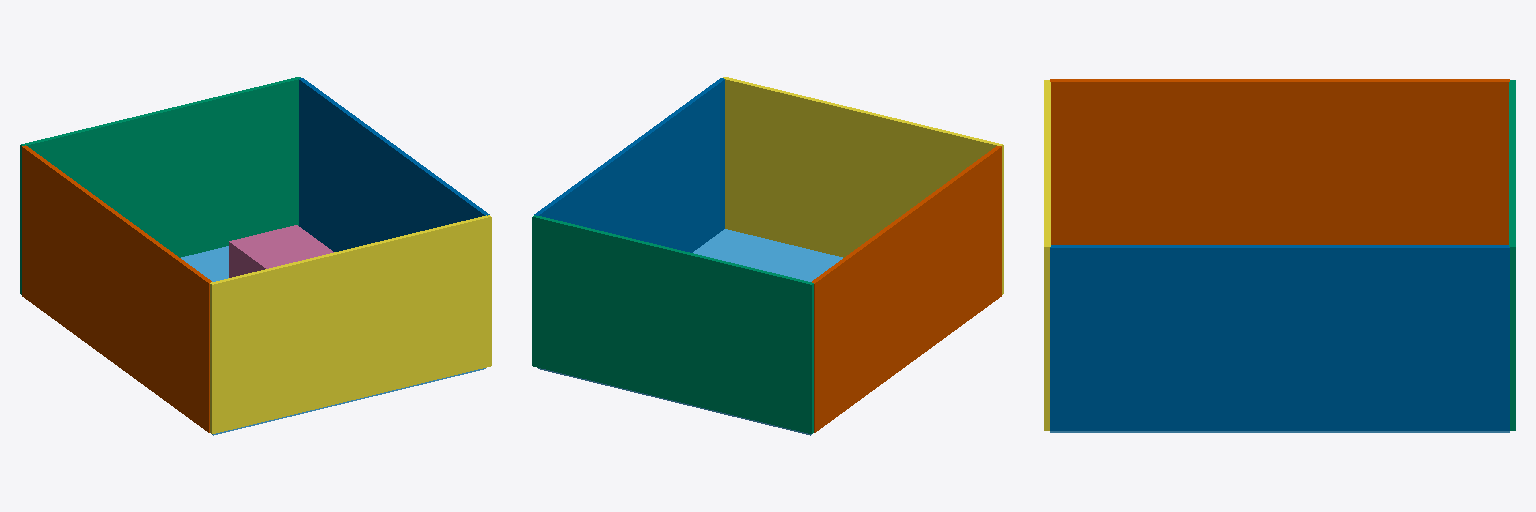
The robot description file, URDF, robot "ground":
<?xml version="1.0" ?>
<robot name="ground" xmlns:xacro="http://ros.org/wiki/xacro">
    <link name="world" />
    <link name="ground_link">
        <inertial>
            <mass value="1.0" />
            <origin xyz="0 0 0" rpy="0 0 0" />
            <inertia ixx="1.0" ixy="0" ixz="0" iyy="1.0" iyz="0" izz="1.0" />
        </inertial>
        <visual>
            <origin xyz="0.9 0 -0.025" rpy="0 0 0" />
            <geometry>
                <box size="4.2 5 0.05" />
            </geometry>
        </visual>
    </link>
    <joint name="ground_joint" type="fixed">
        <origin xyz="0 0 0" rpy="0 0 0" />
        <parent link="world" />
        <child link="ground_link" />
    </joint>

    <link name="cage_1">
       <inertial>
            <mass value="1.0" />
            <origin xyz="0 0 0" rpy="0 0 0" />
            <inertia ixx="1.0" ixy="0" ixz="0" iyy="1.0" iyz="0" izz="1.0" />
       </inertial>
      <visual>
      <origin xyz="0.9 2.52 1.1" rpy="0 0 0" />
        <geometry>
          <box size="4.3 0.07 2.2" />
        </geometry>
      </visual>
    </link>

    <link name="cage_2">
       <inertial>
            <mass value="1.0" />
            <origin xyz="0 0 0" rpy="0 0 0" />
            <inertia ixx="1.0" ixy="0" ixz="0" iyy="1.0" iyz="0" izz="1.0" />
       </inertial>
      <visual>
      <origin xyz="0.9 -2.52 1.1" rpy="0 0 0" />
        <geometry>
          <box size="4.3 0.07 2.2" />
        </geometry>
      </visual>
    </link>


    <link name="cage_3">
       <inertial>
            <mass value="1.0" />
            <origin xyz="0 0 0" rpy="0 0 0" />
            <inertia ixx="1.0" ixy="0" ixz="0" iyy="1.0" iyz="0" izz="1.0" />
       </inertial>
      <visual>
      <origin xyz="3.03 0 1.1" rpy="0 0 0" />
        <geometry>
          <box size="0.07 5 2.2" />
        </geometry>
      </visual>
    </link>

    <link name="cage_4">
       <inertial>
            <mass value="1.0" />
            <origin xyz="0 0 0" rpy="0 0 0" />
            <inertia ixx="1.0" ixy="0" ixz="0" iyy="1.0" iyz="0" izz="1.0" />
       </inertial>
      <visual>
      <origin xyz="-1.23 0 1.1" rpy="0 0 0" />
        <geometry>
          <box size="0.07 5 2.2" />
        </geometry>
      </visual>
    </link>

    <link name="table_tournante">
       <inertial>
            <mass value="1.0" />
            <origin xyz="0 0 0" rpy="0 0 0" />
            <inertia ixx="1.0" ixy="0" ixz="0" iyy="1.0" iyz="0" izz="1.0" />
       </inertial>
      <visual>
      <origin xyz="1.9 1 0.27" rpy="0 0 0" />
        <geometry>
          <box size="1.05 1.1 0.6" />
        </geometry>
      </visual>
    </link>

    <joint name="cage_1" type="fixed">
        <origin xyz="0 0 0" rpy="0 0 0" />
        <parent link="world" />
        <child link="cage_1" />
    </joint>

    <joint name="cage_2" type="fixed">
        <origin xyz="0 0 0" rpy="0 0 0" />
        <parent link="world" />
        <child link="cage_2" />
    </joint>

    <joint name="cage_3" type="fixed">
        <origin xyz="0 0 0" rpy="0 0 0" />
        <parent link="world" />
        <child link="cage_3" />
    </joint>

    <joint name="cage_4" type="fixed">
        <origin xyz="0 0 0" rpy="0 0 0" />
        <parent link="world" />
        <child link="cage_4" />
    </joint>

    <joint name="table_tournante" type="fixed">
        <origin xyz="0 0 0" rpy="0 0 0" />
        <parent link="world" />
        <child link="table_tournante" />
    </joint>
</robot>

--- What the picture shows (computed from the rendered views, not written in the file) ---
3 views of the same robot in one strip: view 1: azimuth 30°, elevation 25°; view 2: azimuth 150°, elevation 25°; view 3: azimuth 270°, elevation 25° (orthographic).
Model ground with 7 links and 6 joints (6 fixed), rooted at world, posed every joint at zero.
Links seen in each view (by area): view 1: cage_2, cage_1, cage_4, cage_3, table_tournante, ground_link; view 2: cage_1, cage_2, cage_4, cage_3, ground_link; view 3: cage_3, cage_4, cage_1, cage_2, ground_link.
Link boxes in pixels (x1,y1,x2,y2): cage_2: [210, 215, 491, 433]; cage_1: [20, 77, 300, 294]; cage_4: [22, 145, 211, 432]; cage_3: [299, 78, 489, 251]; table_tournante: [229, 225, 333, 277]; ground_link: [181, 246, 485, 435]; cage_1: [532, 215, 813, 433]; cage_2: [723, 77, 1003, 294]; cage_4: [812, 146, 1001, 432]; cage_3: [534, 78, 724, 252]; ground_link: [538, 229, 842, 435]; cage_3: [1050, 245, 1509, 430]; cage_4: [1050, 79, 1509, 244]; cage_1: [1509, 80, 1515, 430]; cage_2: [1044, 80, 1050, 430]; ground_link: [1050, 431, 1509, 432].
Size in the robot's own frame: 4.33 by 5.11 by 2.25 metres.
Geometry: primitives only (box / cylinder / sphere), no mesh files.